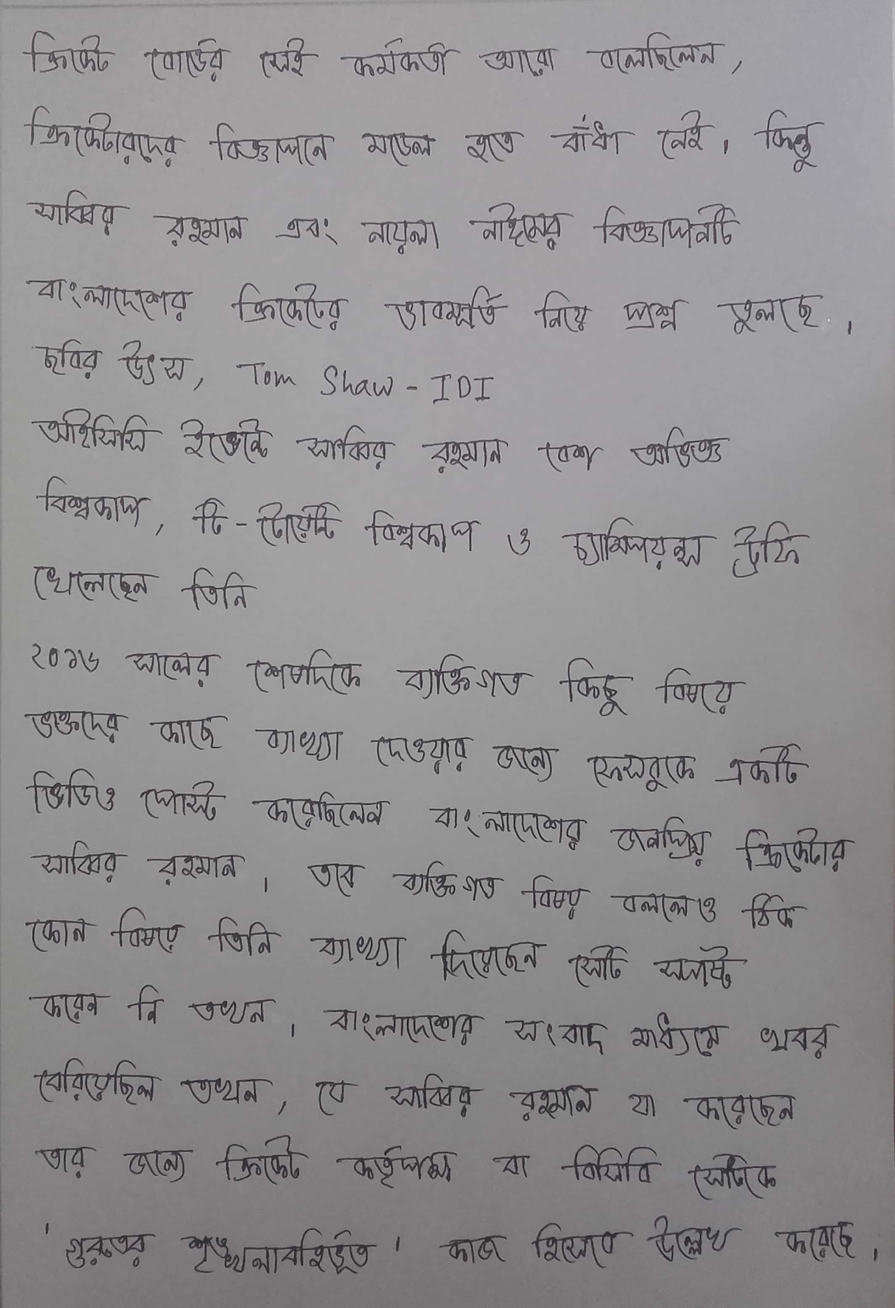line: (23, 767, 861, 878), (34, 475, 811, 578), (28, 836, 811, 936), (24, 705, 815, 795), (29, 983, 841, 1063), (24, 906, 754, 992), (27, 638, 750, 718), (24, 274, 856, 342), (28, 1059, 803, 1132), (20, 106, 827, 176), (34, 1132, 785, 1206), (42, 1215, 883, 1277), (32, 406, 733, 479), (27, 189, 743, 257), (20, 30, 746, 92), (28, 338, 500, 407), (32, 562, 260, 614)
